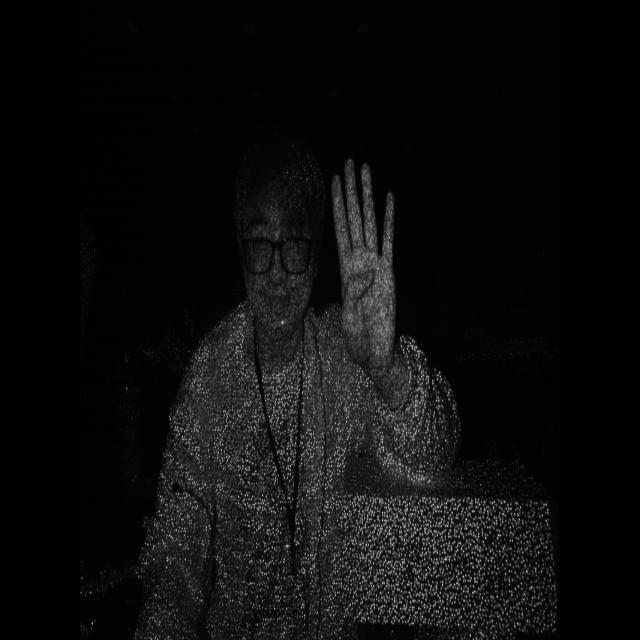B: (324, 148, 409, 386)
